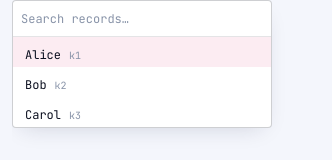
LinkedCell.Editor (#157) › filters candidates by the search query
In the field with placeholder "Search records…": (142,19) 21,10 -> 263,29, type "bo"
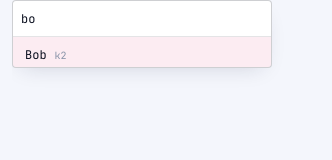
Expected: the text "Bob" is shown, 25,47 -> 47,63
Now the button "Alice" is gone
Now the button "Carol" is gone
